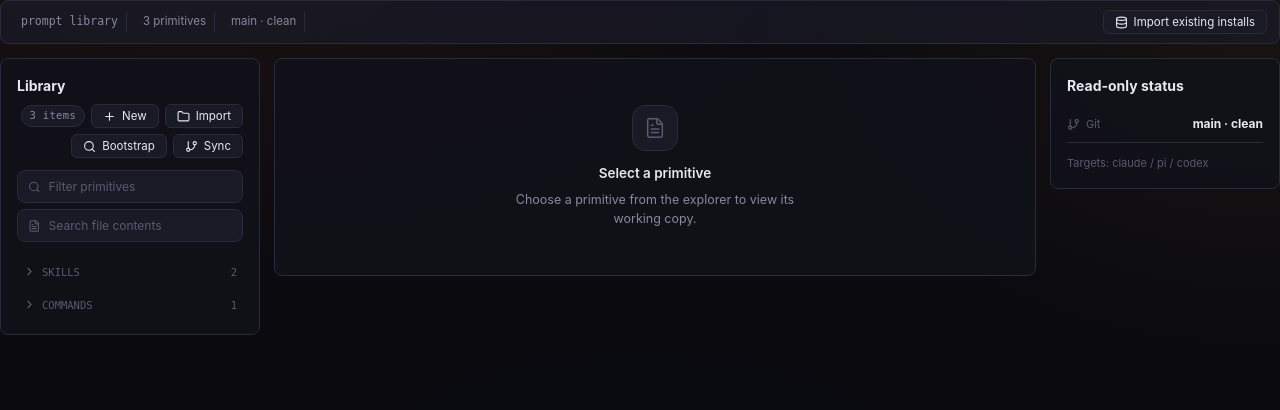
Test: Library route — install rows, two-phase confirm, drift, import › an already-imported destination surfaces a route-local message (not the shell)
Click the button "Import existing installs" at coordinates (1185, 22), box left=1103, top=10, right=1267, bottom=34
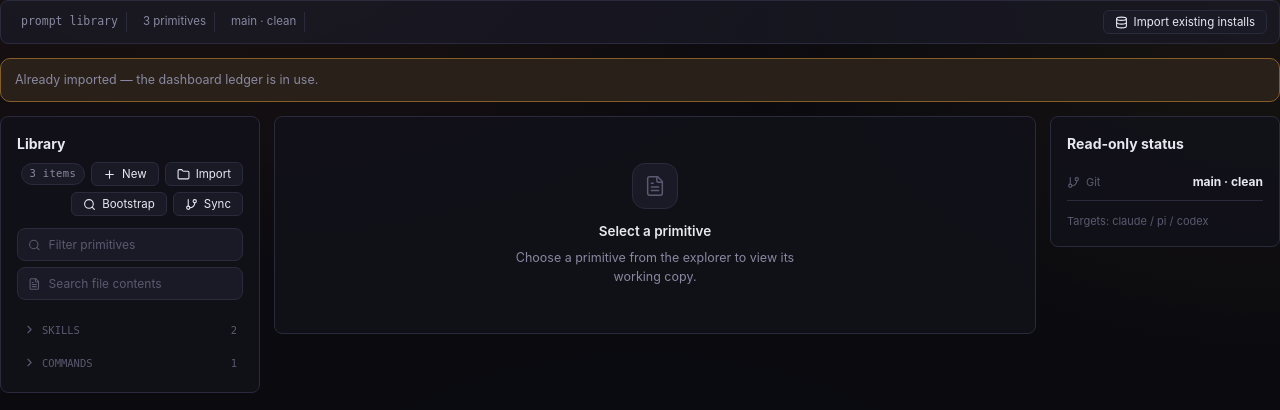
Expected: the text "Already imported — the dashboard ledger is in use." is shown, left=15, top=71, right=318, bottom=89
